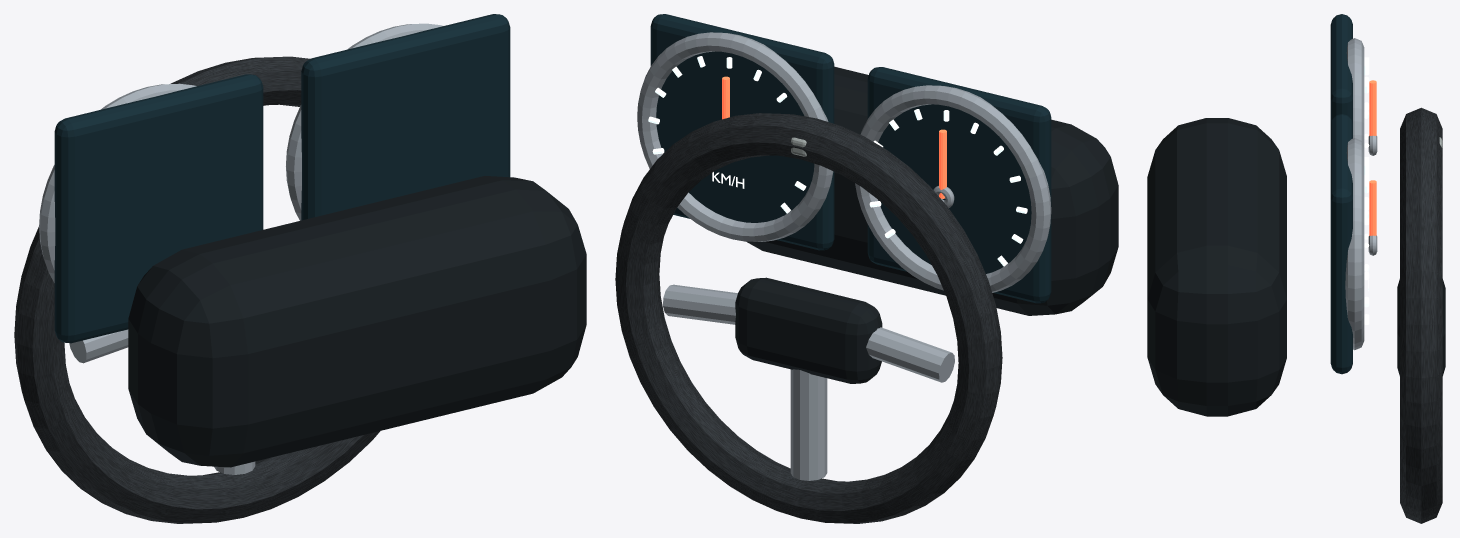
File: kart.glb
3 views of the same model, side by side, from view 1: azimuth 30°, elevation 25°; view 2: azimuth 150°, elevation 25°; view 3: azimuth 270°, elevation 25° (orthographic). The views are drawn at different scales.
Visible parts, largest first — view 1: Cabin Soft black polymer.004, Cabin Display glass.004, Leather steering rim, Cabin Brushed aluminium.004, Wheel spoke; view 2: Leather steering rim, Cabin Display glass.004, Cabin Brushed aluminium.004, Cabin Soft black polymer.004, Steering hub, Lower wheel spoke, Wheel spoke, Wheel spoke.001, Cabin Instrument backlight.004; view 3: Cabin Soft black polymer.004, Leather steering rim, Cabin Display glass.004, Cabin Brushed aluminium.004, Cabin Instrument backlight.004, Steering hub, Needle.001, Needle.
Part boxes in pixels (x1=…): Cabin Soft black polymer.004: x1=128, y1=176, x2=586, y2=467; Cabin Display glass.004: x1=54, y1=14, x2=510, y2=343; Leather steering rim: x1=14, y1=56, x2=380, y2=523; Cabin Brushed aluminium.004: x1=39, y1=23, x2=442, y2=282; Wheel spoke: x1=69, y1=329, x2=128, y2=363; Leather steering rim: x1=615, y1=113, x2=1002, y2=523; Cabin Display glass.004: x1=650, y1=14, x2=1051, y2=303; Cabin Brushed aluminium.004: x1=637, y1=32, x2=1051, y2=292; Cabin Soft black polymer.004: x1=746, y1=66, x2=1118, y2=315; Steering hub: x1=735, y1=277, x2=882, y2=383; Lower wheel spoke: x1=790, y1=369, x2=827, y2=480; Wheel spoke: x1=866, y1=327, x2=954, y2=382; Wheel spoke.001: x1=663, y1=284, x2=737, y2=324; Cabin Instrument backlight.004: x1=648, y1=56, x2=1027, y2=266; Cabin Soft black polymer.004: x1=1147, y1=118, x2=1286, y2=416; Leather steering rim: x1=1400, y1=107, x2=1442, y2=523; Cabin Display glass.004: x1=1330, y1=14, x2=1352, y2=374; Cabin Brushed aluminium.004: x1=1345, y1=38, x2=1364, y2=350; Cabin Instrument backlight.004: x1=1364, y1=57, x2=1369, y2=324; Steering hub: x1=1397, y1=279, x2=1445, y2=375; Needle.001: x1=1369, y1=180, x2=1376, y2=235; Needle: x1=1369, y1=80, x2=1376, y2=135.
Size of the model in its own units: 0.418 by 0.418 by 0.2775.
Materials: 7 (1 with a texture image).
